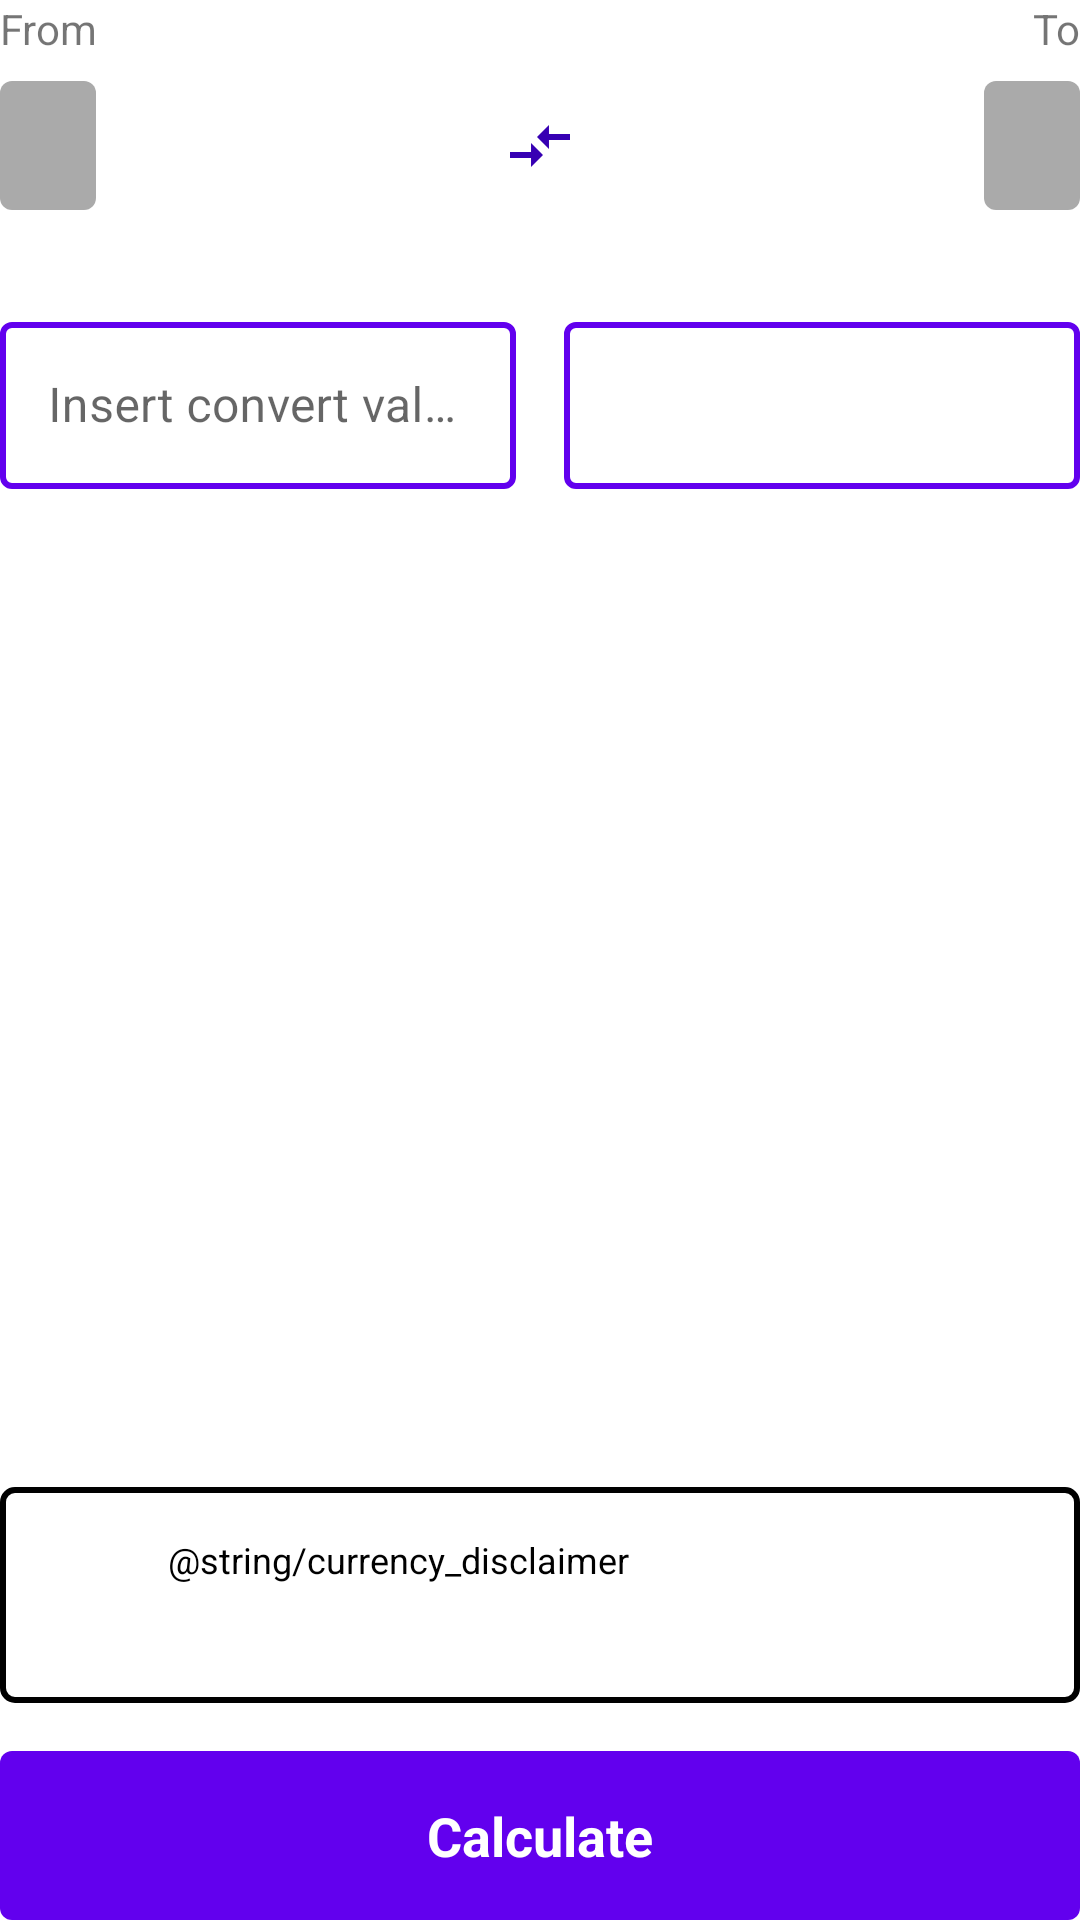

Named icons in this screenshot (1080 x 1920) and their centers, (x,y):
compare arrows: (540,146)
